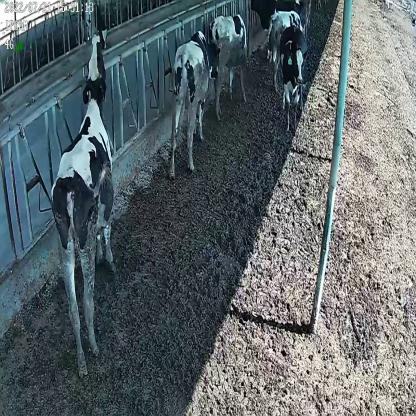cow: (50, 29, 116, 378), (170, 28, 222, 180), (210, 12, 250, 120), (277, 26, 307, 131), (266, 8, 305, 78)
